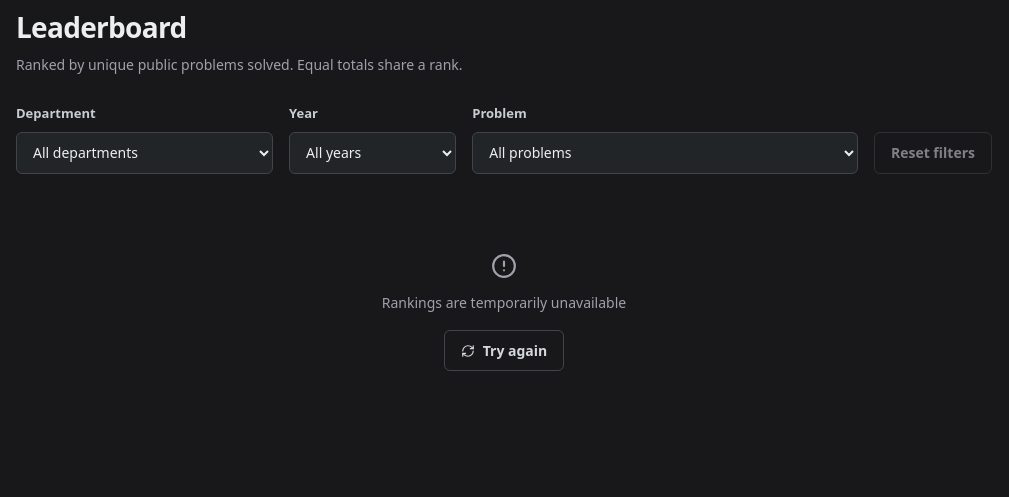
Leaderboard › shows request failures, supports retry and explains an empty filtered ranking
Expected: the message reads "Rankings are temporarily unavailable", [382,293,626,312]
Click the button "Try again" at [504, 351], box [444,330,564,371]
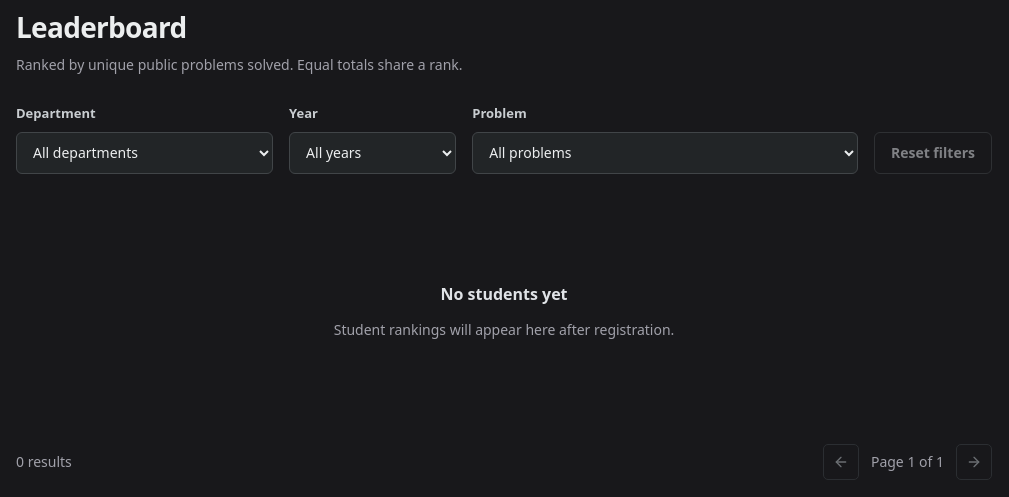
Expected: the heading "No students yet" is shown, [440,282,568,306]
Select "Pair Sum" in the dropdown labelled "Problem" at [665, 153], box [472,132,858,174]
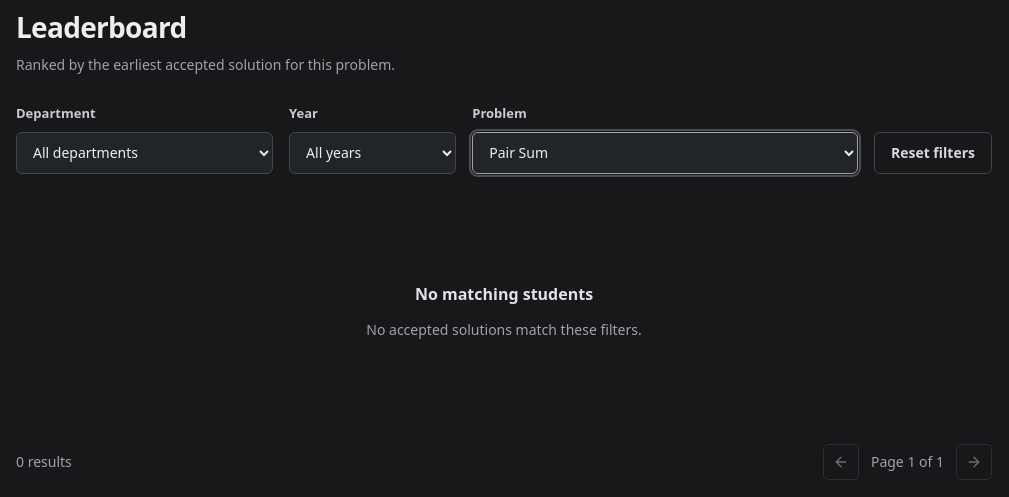
Expected: the button named "Next page" is disabled, [956,444,992,480]
Expected: the heading "No matching students" is shown, [415,282,593,306]
Expected: the text "No accepted solutions match these filters." is shown, [366,318,642,342]
